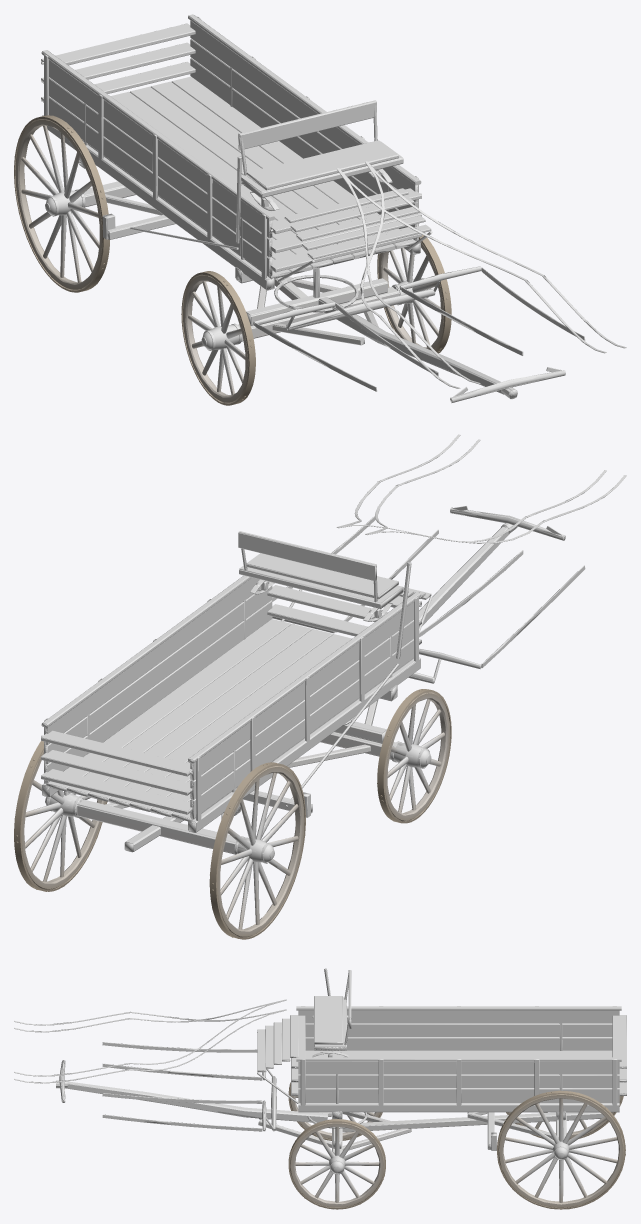
File: carreton.glb
3 renders of one model, top to bottom at view 1: azimuth 30°, elevation 25°; view 2: azimuth 150°, elevation 25°; view 3: azimuth 270°, elevation 25°, orthographic. The views are drawn at different scales.
Visible parts, largest first — view 1: Body_Mesh, Body_LOD, Wheel.RR_Mesh, Wheel.RR_LOD, Wheel.FR_Mesh, Wheel.FR_LOD, Wheel.FL_Mesh, Wheel.FL_LOD; view 2: Body_Mesh, Body_LOD, Wheel.RR_Mesh, Wheel.RR_LOD, Wheel.FR_Mesh, Wheel.RL_Mesh, Wheel.FR_LOD, Wheel.RL_LOD; view 3: Body_Mesh, Body_LOD, Wheel.RL_Mesh, Wheel.RL_LOD, Wheel.FL_Mesh, Wheel.FL_LOD, Wheel.FR_LOD, Wheel.FR_Mesh.
Boxes of the visible parts, <box> form: Body_Mesh: <box>41,14,626,402</box>; Body_LOD: <box>41,15,621,402</box>; Wheel.RR_Mesh: <box>14,115,109,292</box>; Wheel.RR_LOD: <box>14,115,109,292</box>; Wheel.FR_Mesh: <box>181,271,255,405</box>; Wheel.FR_LOD: <box>181,271,255,405</box>; Wheel.FL_Mesh: <box>377,235,451,352</box>; Wheel.FL_LOD: <box>377,235,451,353</box>; Body_Mesh: <box>41,434,626,853</box>; Body_LOD: <box>41,436,622,854</box>; Wheel.RR_Mesh: <box>209,762,305,939</box>; Wheel.RR_LOD: <box>210,762,305,939</box>; Wheel.FR_Mesh: <box>377,689,451,823</box>; Wheel.RL_Mesh: <box>14,741,107,891</box>; Wheel.FR_LOD: <box>377,689,451,823</box>; Wheel.RL_LOD: <box>14,741,106,891</box>; Body_Mesh: <box>14,968,626,1151</box>; Body_LOD: <box>17,968,626,1151</box>; Wheel.RL_Mesh: <box>497,1091,625,1209</box>; Wheel.RL_LOD: <box>497,1090,625,1209</box>; Wheel.FL_Mesh: <box>288,1119,385,1209</box>; Wheel.FL_LOD: <box>288,1119,385,1209</box>; Wheel.FR_LOD: <box>288,1084,381,1140</box>; Wheel.FR_Mesh: <box>288,1082,382,1140</box>.
Size of the model in its own units: 1.93 by 2.05 by 6.3.
